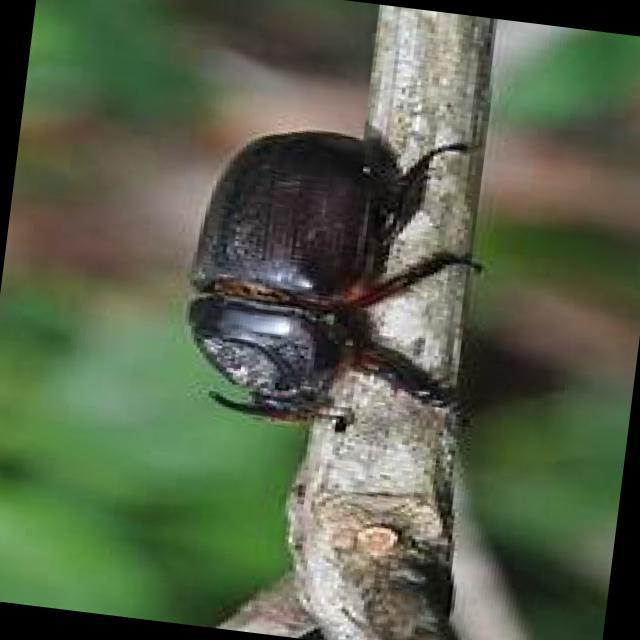Rhino-beetle: (160, 96, 446, 458)
